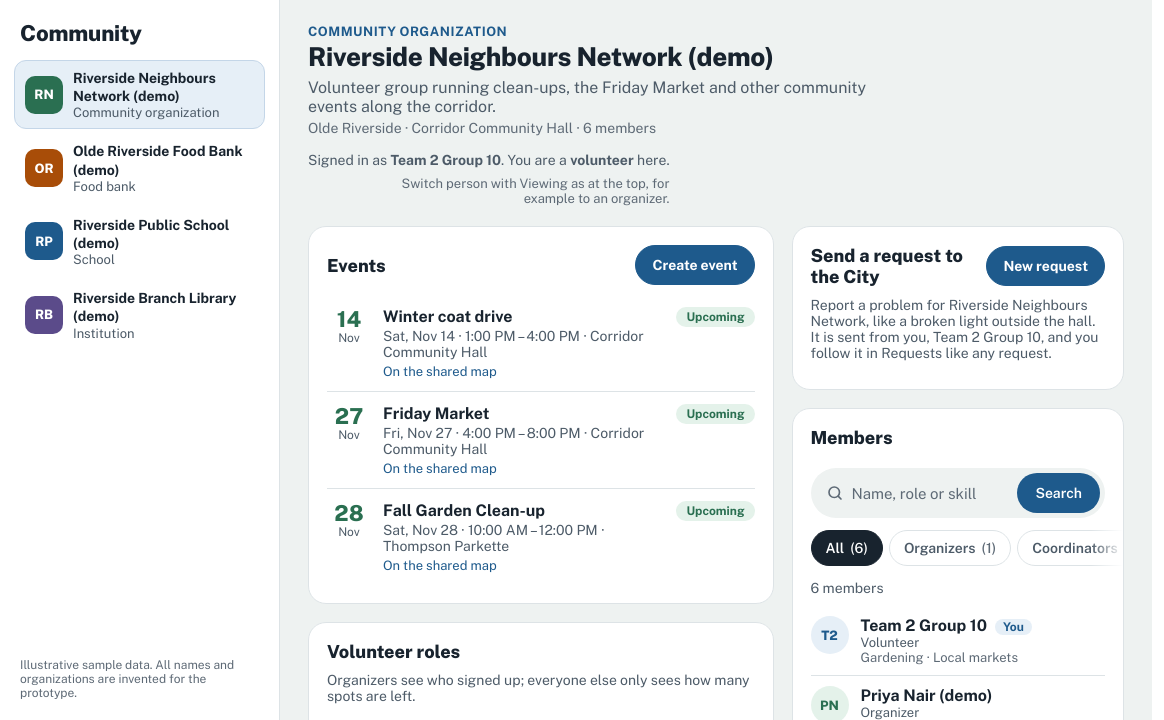
it: School workspace › only appears for the school, not the other organizations
expect the heading "Riverside Neighbours Network (demo)" is shown: met, box [308,41,774,72]
Click the button "RB Riverside Branch Library (demo) Institution" at (140, 315), box [14,280,265,350]
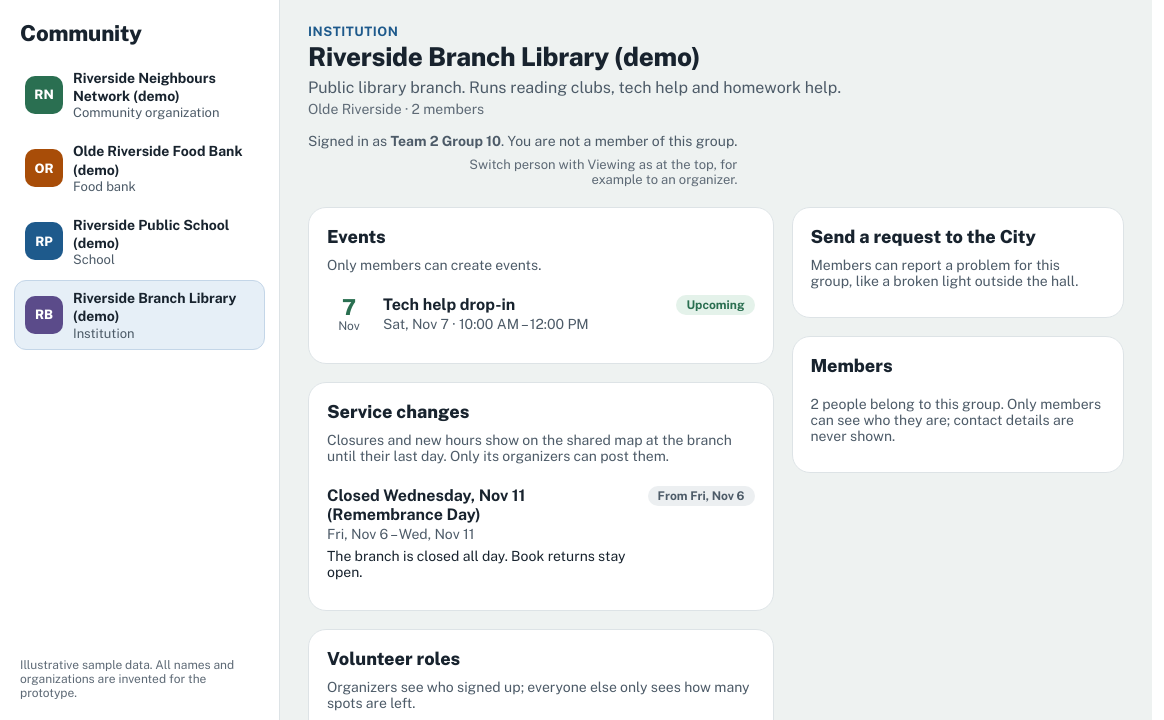
expect the heading "Riverside Branch Library (demo)" is shown: met, box [308,41,700,72]
